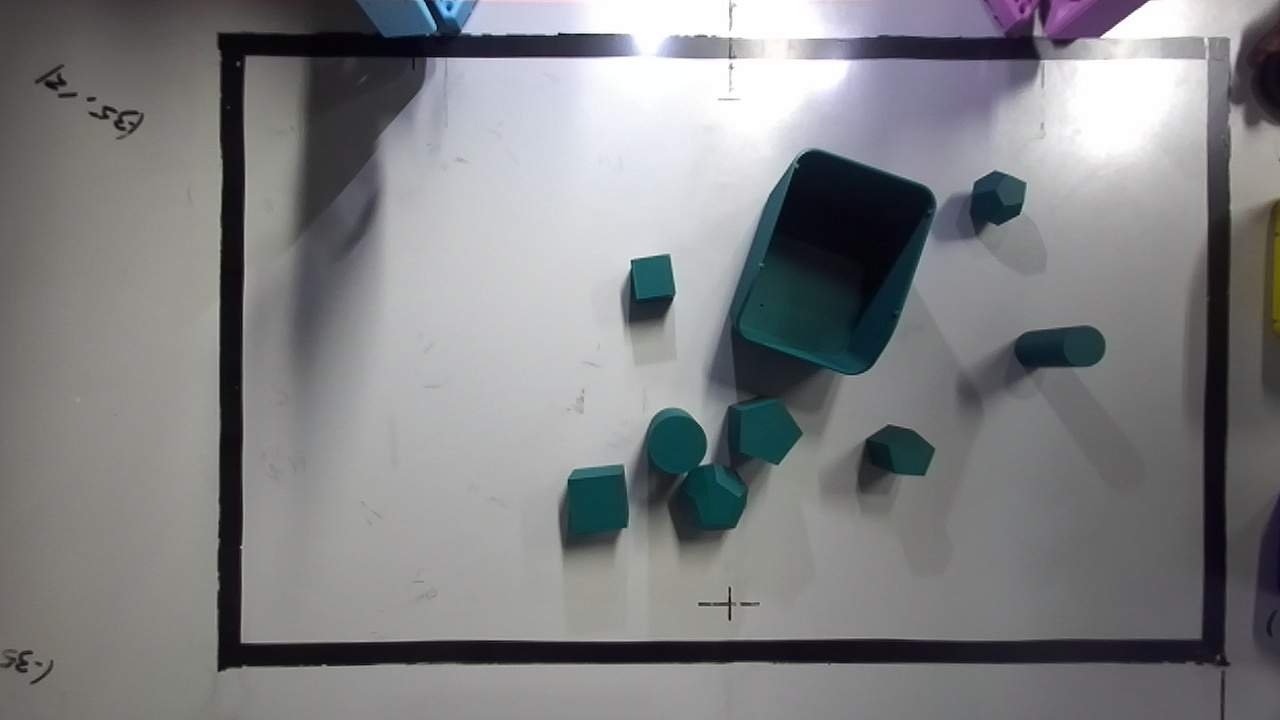bin: (730, 150, 935, 373)
cube: (566, 464, 628, 542), (630, 254, 675, 301)
cylinder: (646, 408, 706, 474), (1014, 326, 1105, 369)
dodecahedron: (677, 464, 747, 529), (970, 171, 1025, 233)
hexagonal: (727, 397, 802, 464), (866, 425, 933, 475)
